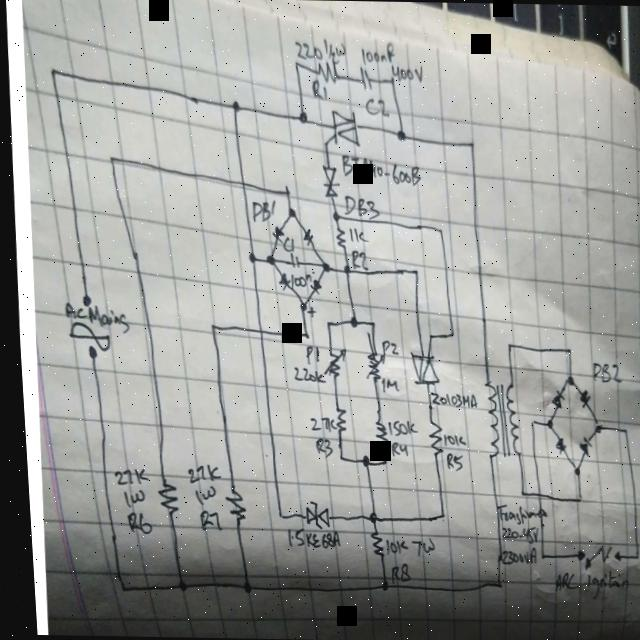capacitor: (358, 66, 372, 92), (286, 251, 297, 270)
crossover: (233, 174, 248, 196), (248, 322, 263, 344), (526, 486, 539, 504)
diode: (296, 498, 324, 534), (317, 163, 338, 197), (544, 388, 561, 412), (267, 224, 282, 244), (273, 271, 288, 291), (573, 435, 587, 456), (573, 388, 586, 408), (299, 226, 311, 247), (548, 435, 561, 454), (306, 276, 318, 294)
junction: (46, 62, 59, 82), (104, 148, 117, 167), (227, 95, 240, 114), (294, 107, 307, 126), (276, 182, 289, 200), (261, 251, 272, 267), (243, 250, 254, 266), (295, 297, 306, 313), (295, 327, 306, 343), (205, 319, 216, 335), (110, 580, 121, 596), (169, 578, 180, 594), (234, 578, 245, 594), (361, 508, 372, 524), (372, 576, 383, 592), (329, 449, 340, 465), (488, 578, 499, 594), (355, 454, 366, 469), (290, 57, 300, 73), (284, 205, 294, 221), (318, 260, 328, 276), (269, 508, 279, 524), (376, 452, 386, 468), (431, 505, 441, 521), (500, 339, 509, 352), (421, 329, 430, 342), (320, 318, 329, 331), (531, 550, 540, 562), (523, 416, 532, 428), (443, 329, 452, 341), (407, 264, 416, 276), (345, 315, 354, 327), (338, 262, 347, 274), (431, 225, 440, 237), (395, 128, 404, 140), (560, 345, 569, 357), (561, 375, 570, 387), (588, 422, 597, 434), (539, 418, 548, 430), (385, 75, 394, 86), (512, 486, 520, 498), (364, 318, 372, 330), (465, 138, 473, 150), (328, 208, 336, 220), (319, 138, 327, 150), (567, 464, 575, 476), (615, 424, 623, 436), (625, 548, 633, 560)
resistor: (317, 346, 344, 382), (217, 484, 241, 524), (150, 478, 174, 514), (357, 348, 382, 381), (420, 417, 439, 457), (315, 58, 341, 86), (362, 528, 378, 558), (367, 418, 384, 446), (329, 404, 343, 434), (331, 225, 344, 249)
terminal: (81, 343, 94, 363), (78, 290, 90, 310), (567, 547, 578, 563), (605, 547, 616, 563)
text: (489, 502, 543, 568), (106, 464, 148, 537), (180, 461, 219, 533), (360, 40, 423, 83), (338, 153, 419, 186), (57, 300, 127, 337), (546, 567, 622, 599), (294, 36, 347, 66), (286, 342, 321, 385), (279, 524, 335, 550), (303, 413, 334, 458), (381, 420, 415, 458), (377, 536, 428, 558), (341, 192, 377, 220), (436, 432, 461, 472), (423, 390, 472, 410), (586, 360, 616, 386), (249, 196, 274, 222), (363, 96, 388, 118), (383, 560, 404, 584), (347, 248, 365, 270), (308, 79, 326, 101), (375, 376, 396, 394), (377, 340, 394, 358), (286, 274, 302, 290), (279, 236, 292, 252)
thyristor: (324, 107, 359, 148), (405, 347, 436, 387)
transformer: (476, 380, 520, 462)
